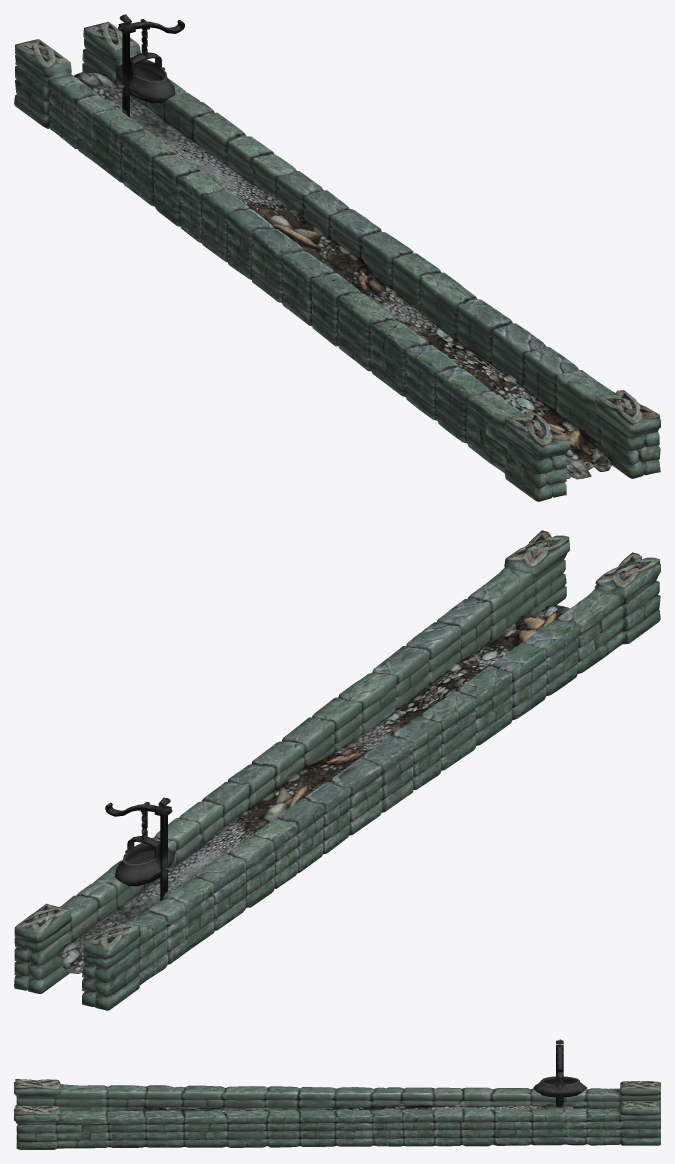
Rendered from lm_long_hearth.glb.
3 views of the same model, one above another, from view 1: azimuth 30°, elevation 25°; view 2: azimuth 150°, elevation 25°; view 3: azimuth 270°, elevation 25° (orthographic). The views are drawn at different scales.
Visible parts, largest first — view 1: lm_long_hearth-col; view 2: lm_long_hearth-col; view 3: lm_long_hearth-col.
Part boxes in pixels (<box>): lm_long_hearth-col: <box>14,14,660,501</box>; lm_long_hearth-col: <box>14,530,660,1010</box>; lm_long_hearth-col: <box>14,1039,660,1149</box>.
Bounding box in the file's own units: 1.6 × 1.8 × 12.
Materials: 1 (1 with a texture image).
